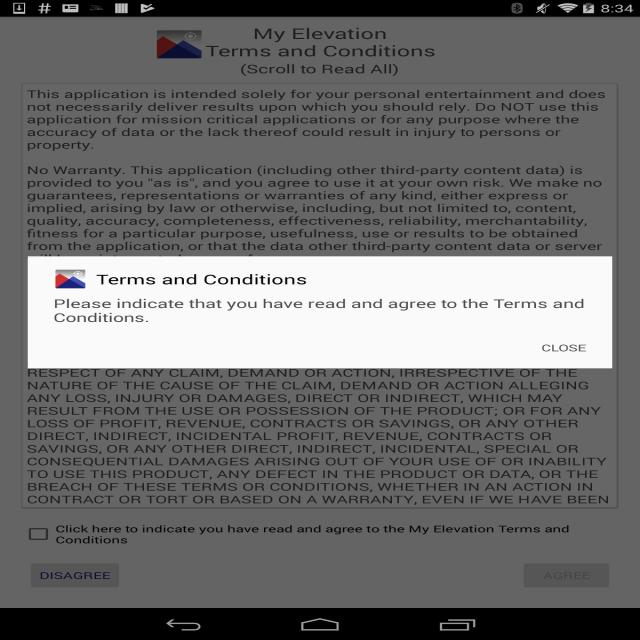button: (524, 562, 610, 589), (31, 563, 119, 586), (538, 339, 594, 357), (25, 525, 51, 543)
heading: (204, 26, 444, 60), (92, 270, 317, 288)
image: (156, 29, 202, 58), (54, 268, 89, 288)
label: (56, 523, 576, 545)
text: (26, 368, 614, 507), (28, 164, 608, 253), (24, 88, 612, 154), (52, 297, 594, 324), (236, 62, 406, 78)
